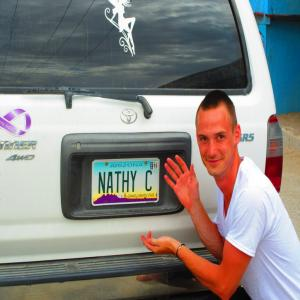Vehicle-registration-plate: (103, 146, 164, 220)
